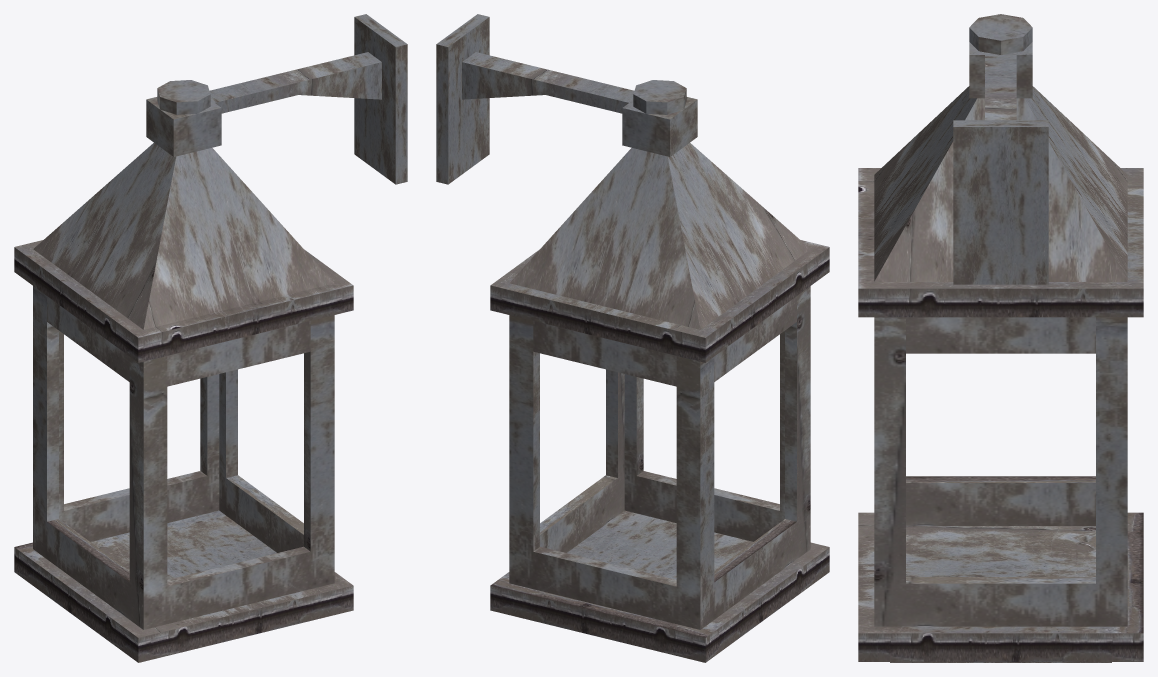
File: latern001.dae
3 views of the same model, side by side, from view 1: azimuth 30°, elevation 25°; view 2: azimuth 150°, elevation 25°; view 3: azimuth 270°, elevation 25° (orthographic). The views are drawn at different scales.
Parts seen in each view (by area): view 1: latern001; view 2: latern001; view 3: latern001.
Boxes of the visible parts, bbox=[...] form: latern001: bbox=[14, 14, 407, 662]; latern001: bbox=[436, 14, 829, 662]; latern001: bbox=[858, 14, 1143, 662].
Size of the model in its own units: 0.8125 by 0.5626 by 1.31.
Materials: 1 (1 with a texture image).
